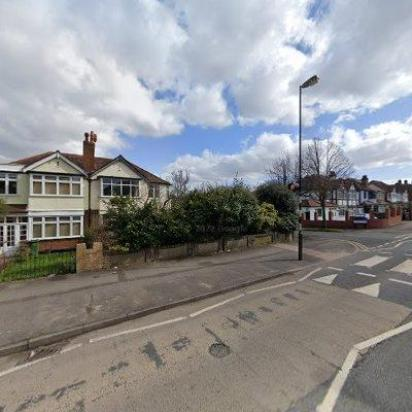stationary-car-offstreet: (348, 211, 378, 223)
